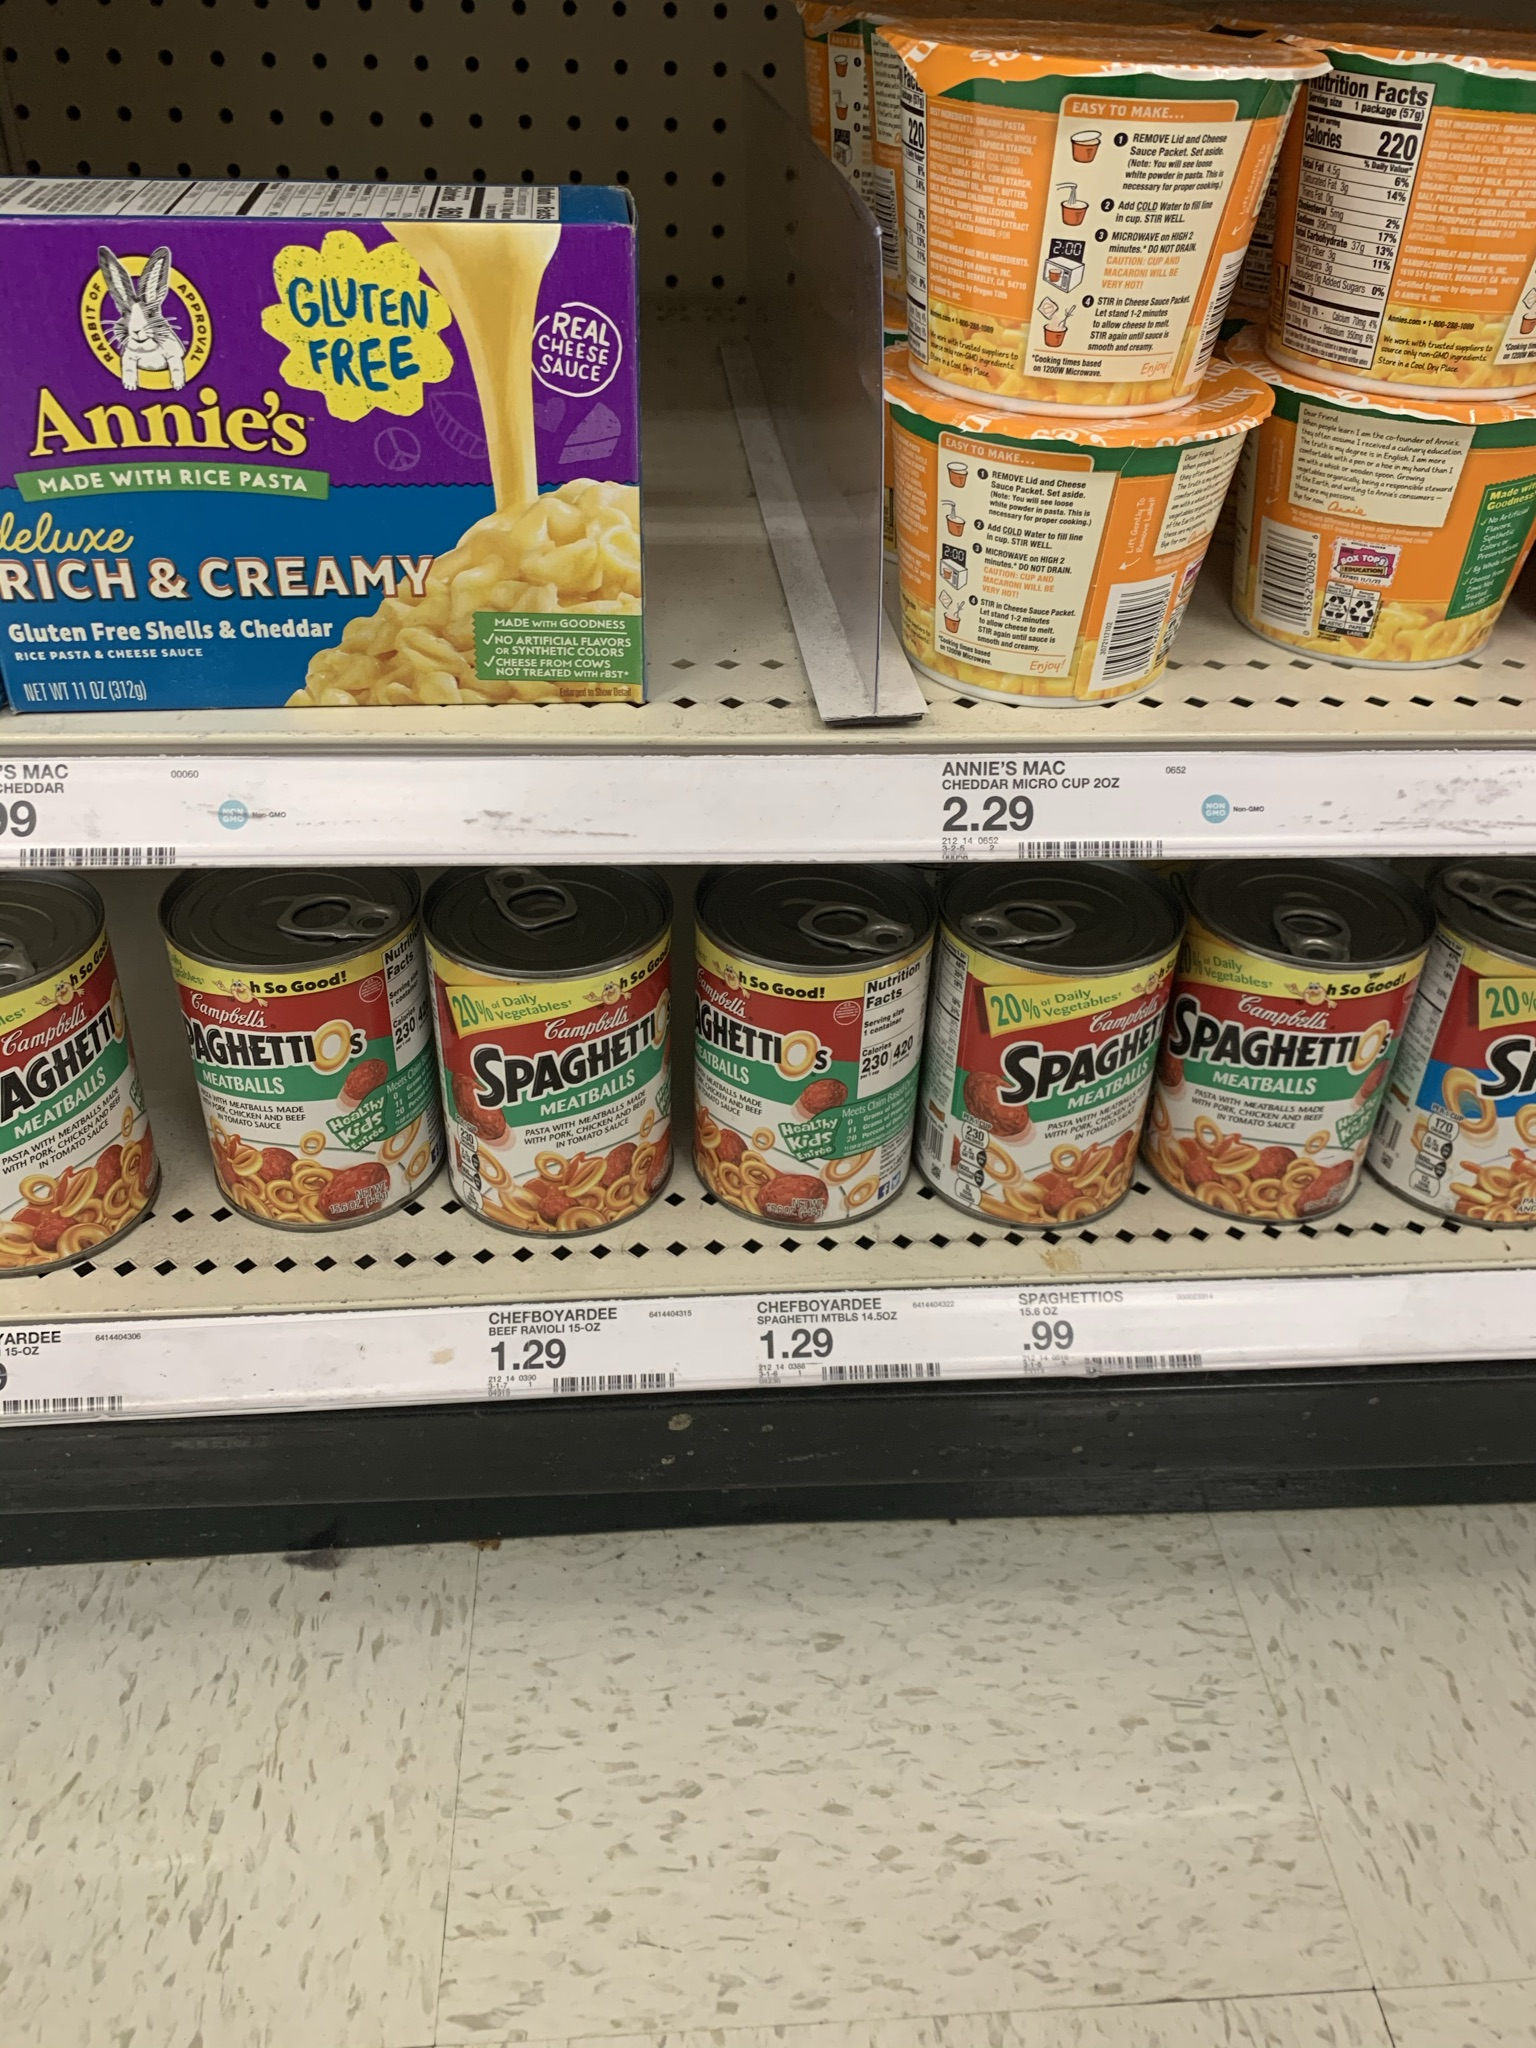box: (6, 232, 626, 705)
can: (705, 887, 918, 1205), (461, 887, 657, 1218), (945, 900, 1163, 1185), (211, 934, 418, 1205), (1184, 926, 1376, 1184), (2, 914, 106, 1264)
